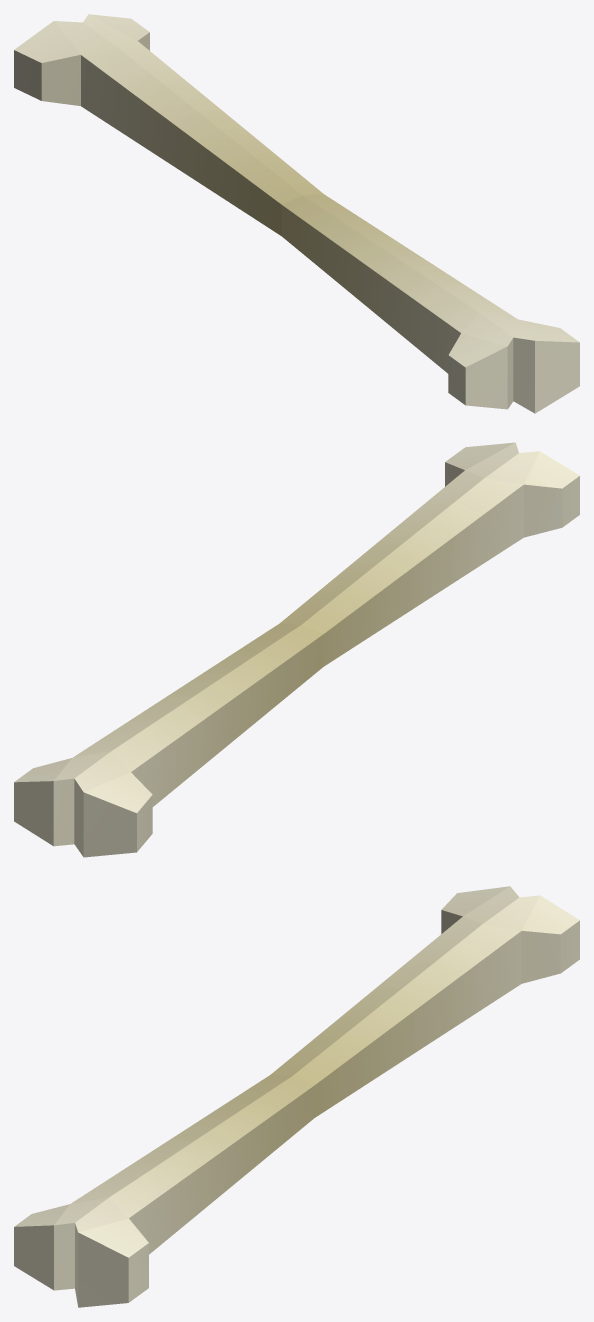
Rendered from Bone.fbx.
The picture shows the model from 3 angles, top to bottom: view 1: azimuth 30°, elevation 25°; view 2: azimuth 150°, elevation 25°; view 3: azimuth 330°, elevation 25°; orthographic projection. The views are drawn at different scales.
Visible parts, largest first — view 1: Bone; view 2: Bone; view 3: Bone.
Part boxes in pixels (x1,y1,x2,y2): Bone: (14,14,579,413); Bone: (14,442,579,857); Bone: (14,886,579,1307).
Bounding box in the file's own units: 10.27 × 64.53 × 5.77.
Materials: 1 (1 with a texture image).
